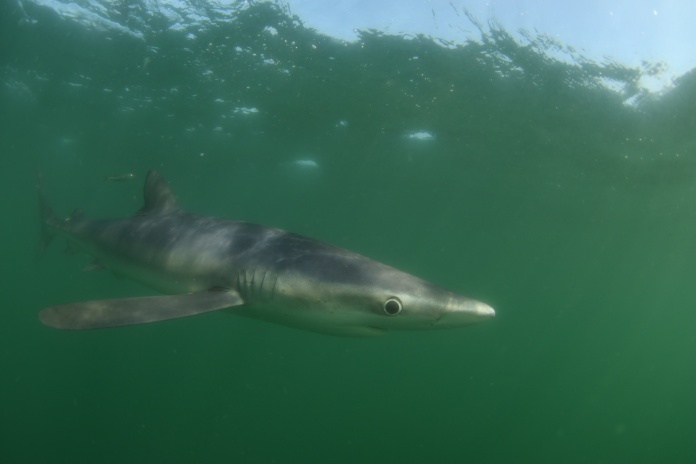Azul: (1, 158, 510, 346)
